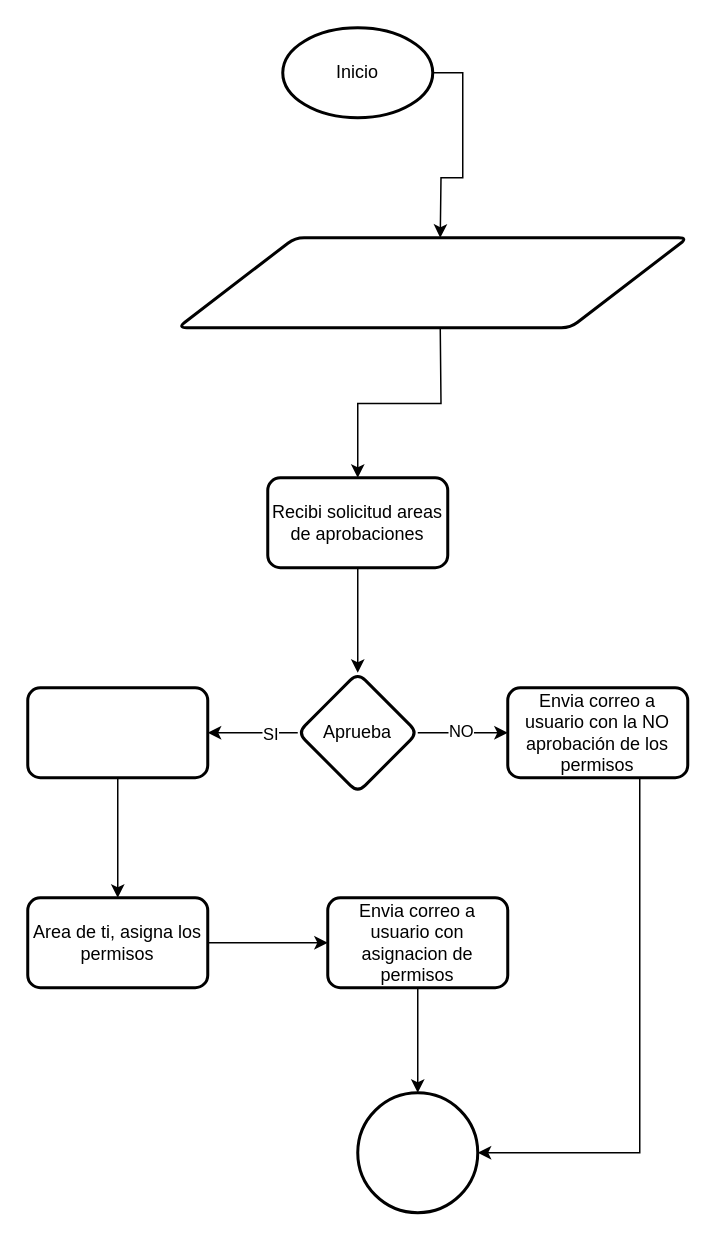
Image size: 714x1239. Some labels were removed from this diagram. Each missing label, with the centre of its shape:
"Enviar correo con aprobación al area de TI" belongs at [117,732].
"FIN" belongs at [417,1152].
"Usuario registra solicitud permisos en app" belongs at [432,282].
